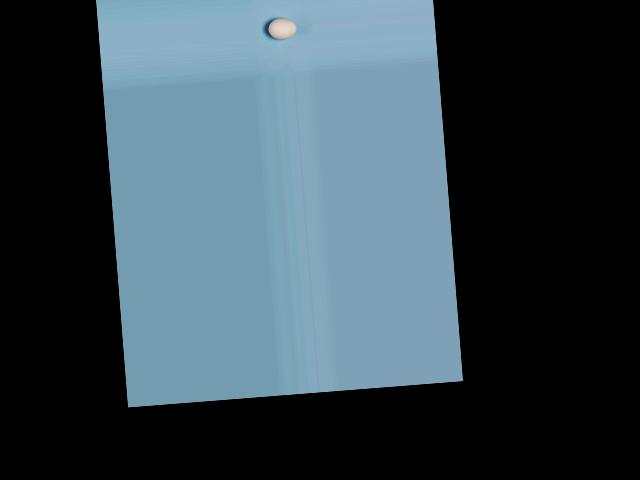egg: (267, 17, 297, 40)
